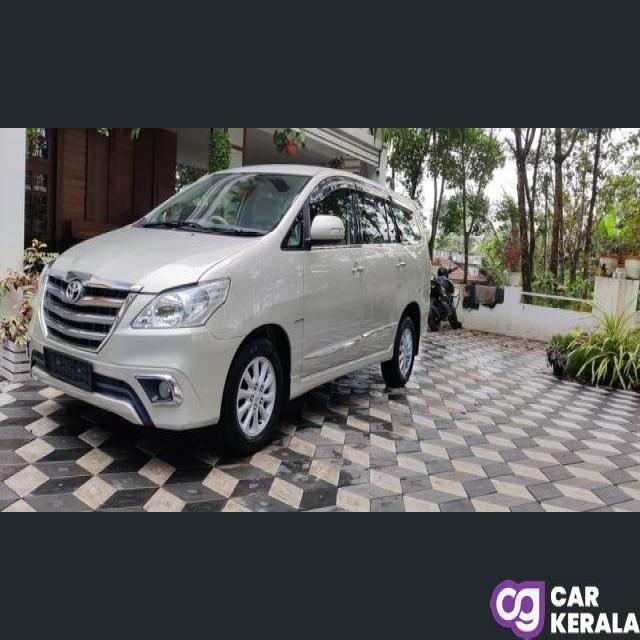light_vehicle: (28, 162, 434, 454)
